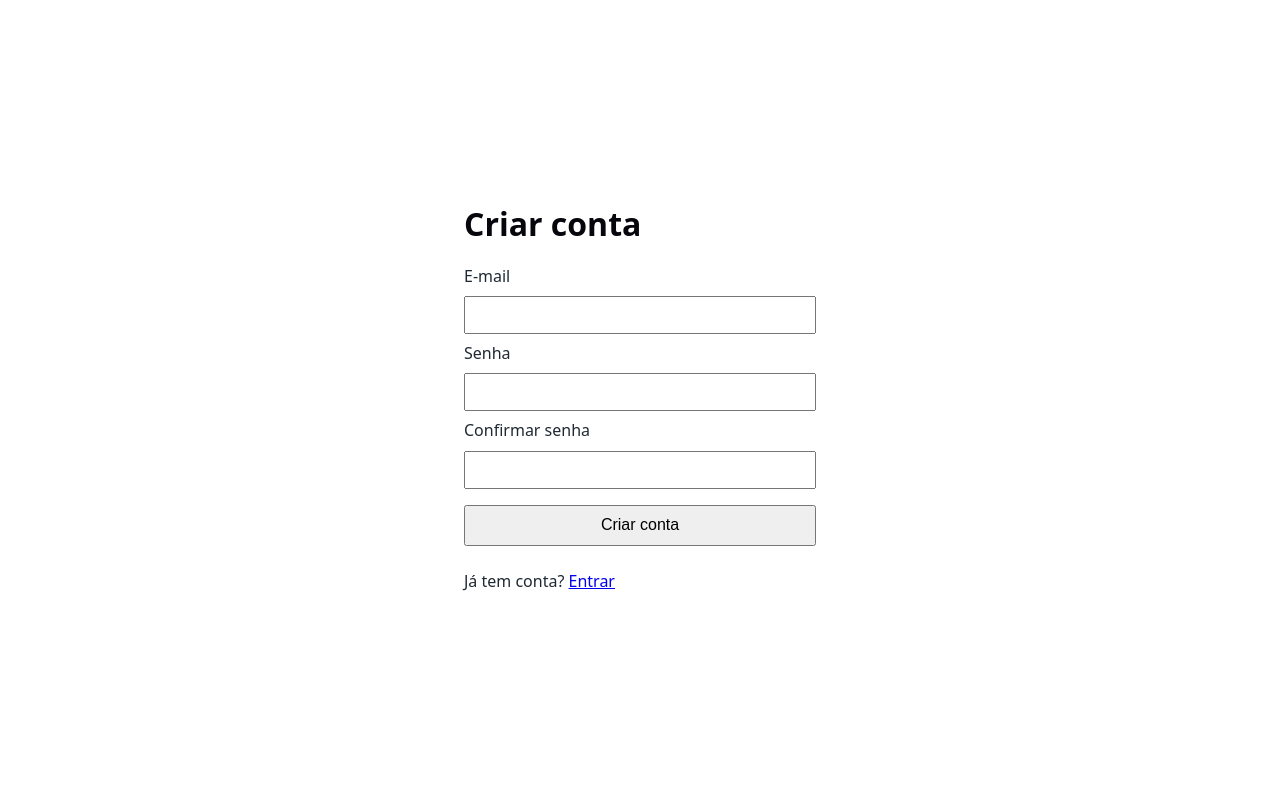
Scenario: RegisterPage (fluxo completo via App real) › registers, logs in automatically and redirects to the authenticated home
The image size is (1280, 800).
Type "new-user@example.com" into the field labelled "E-mail" at [640, 315], box x1=464 y1=296 x2=816 y2=334
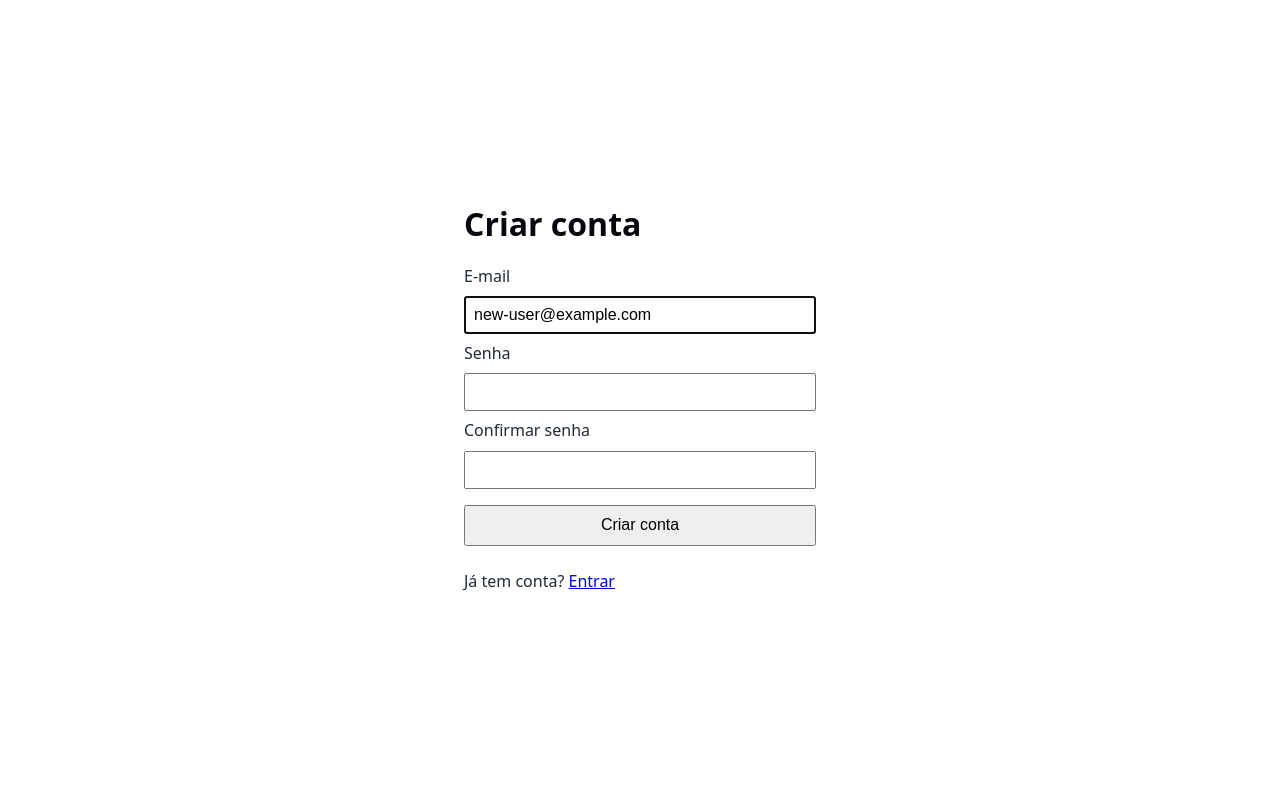
Type "StrongPass1" into the password field labelled "Senha" at [640, 392], box x1=464 y1=373 x2=816 y2=411
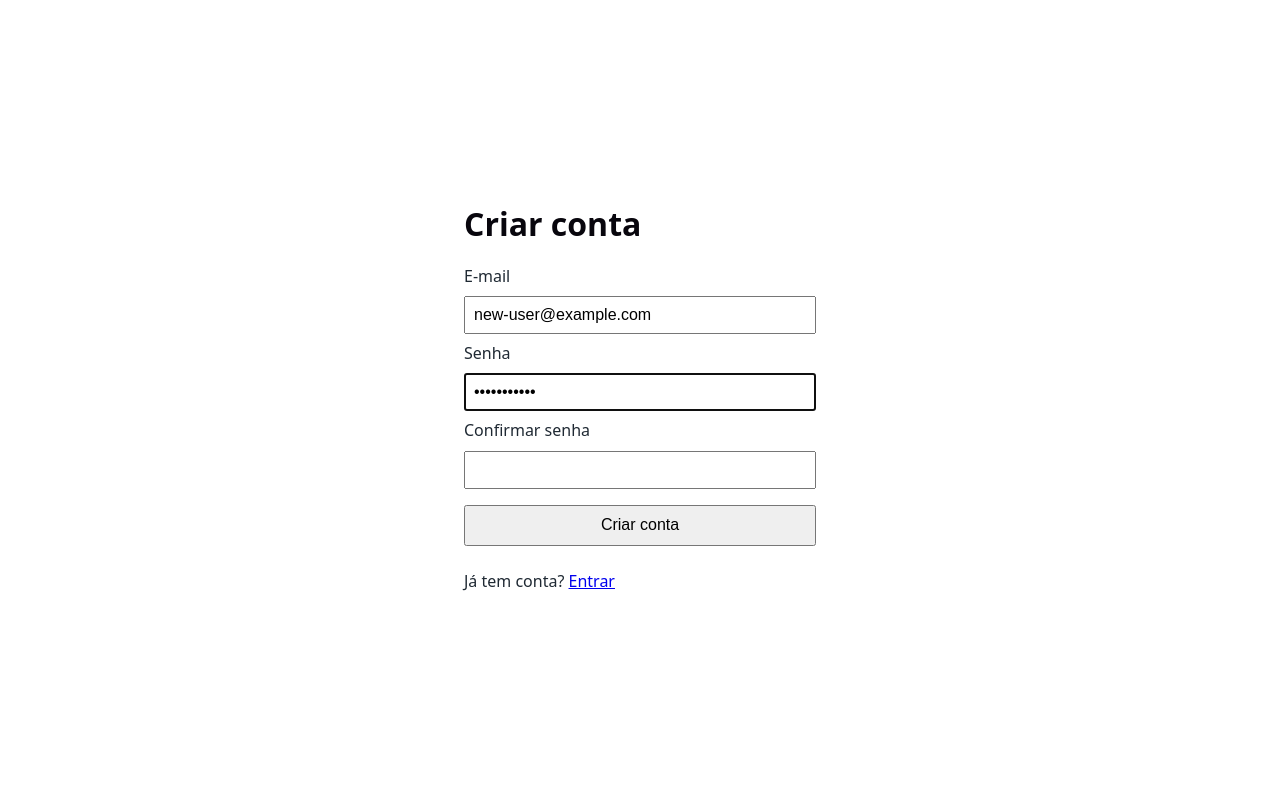
Type "StrongPass1" into the password field labelled "Confirmar senha" at [640, 470], box x1=464 y1=451 x2=816 y2=489
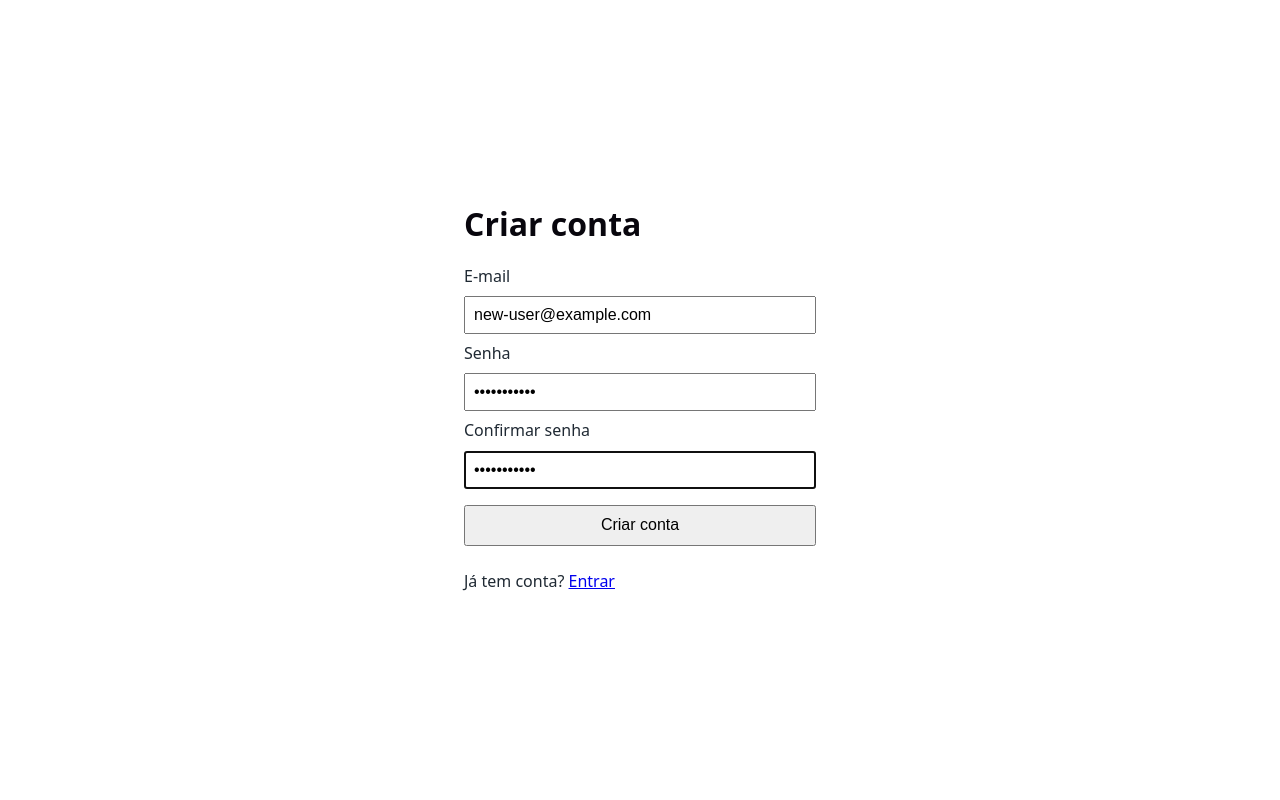
Click the button "Criar conta" at [640, 525], box x1=464 y1=505 x2=816 y2=546
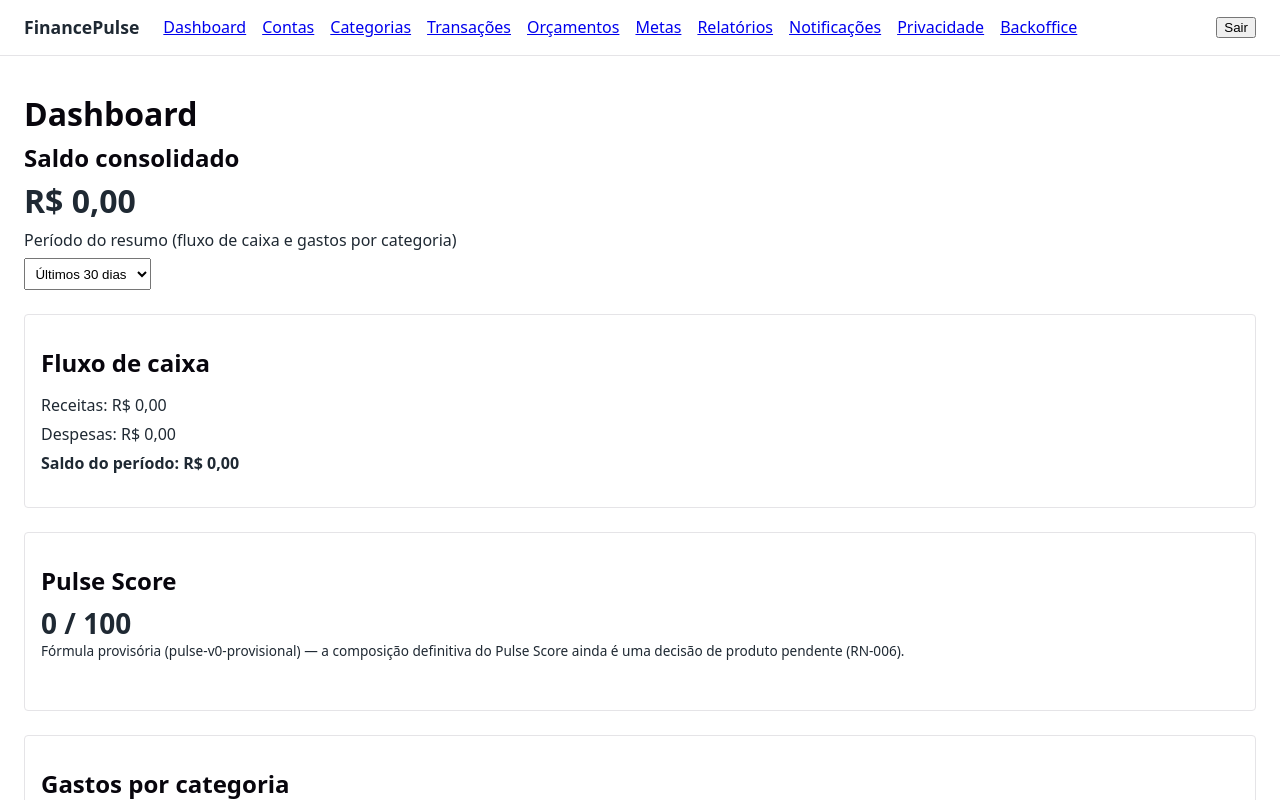
Expected: the heading "Dashboard" is shown, x1=24 y1=92 x2=198 y2=135
